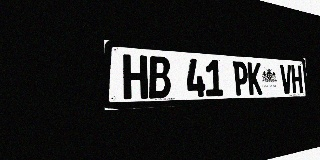1: (205, 59, 223, 97)
4: (186, 58, 206, 97)
B: (148, 56, 171, 99)
H: (123, 54, 148, 99), (291, 65, 303, 93)
K: (247, 62, 262, 95)
P: (232, 61, 249, 95)
V: (280, 64, 292, 94)
